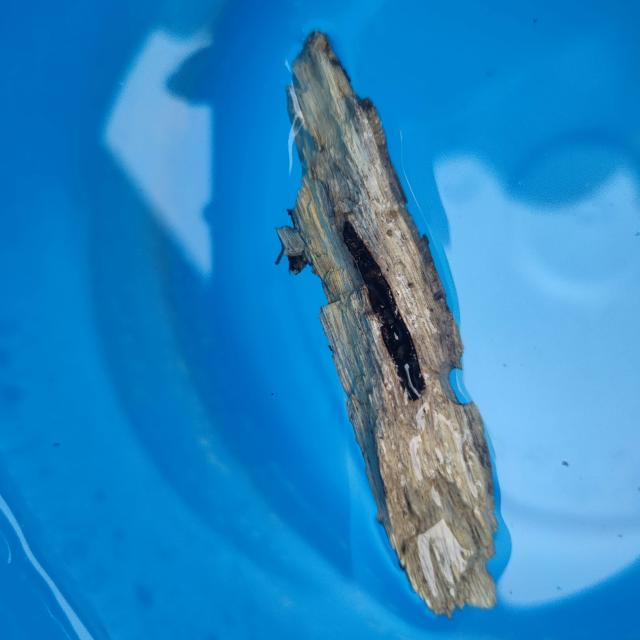litter: (219, 22, 564, 632)
